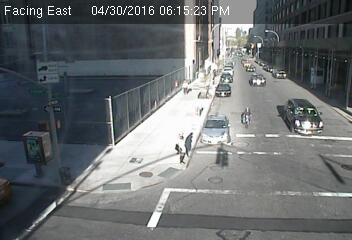neg: (198, 79, 215, 101), (31, 146, 46, 166), (30, 78, 44, 96), (189, 98, 203, 115), (188, 124, 199, 139), (24, 134, 33, 146)
pos: (167, 129, 195, 166), (180, 78, 192, 94)
